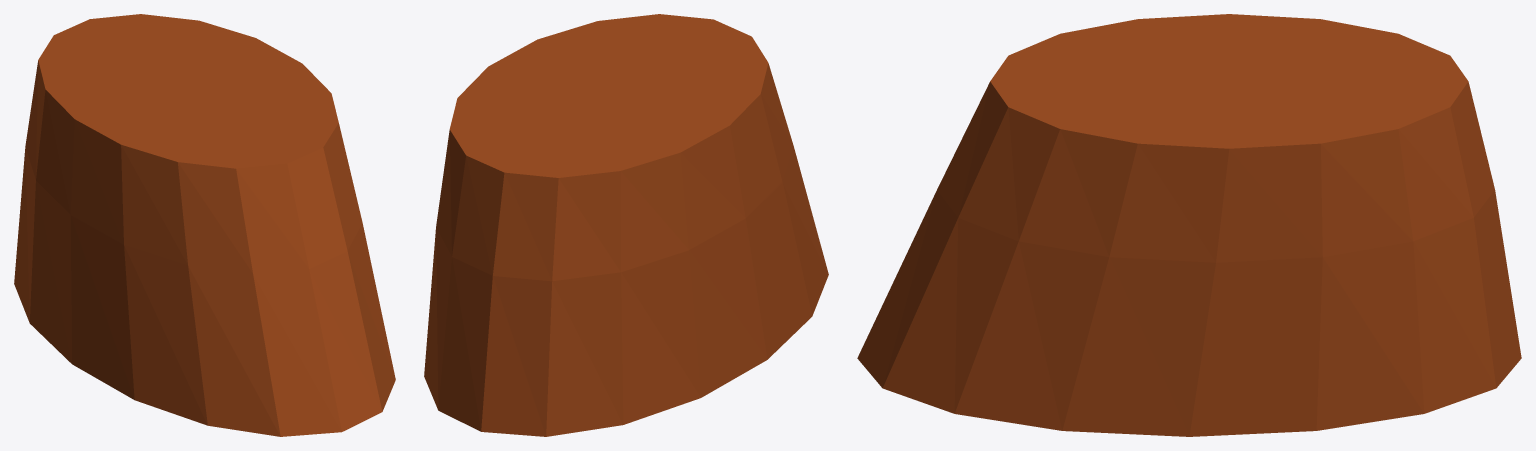
The model's file is Boot_R.obj.
3 views of the same model, side by side, from view 1: azimuth 30°, elevation 25°; view 2: azimuth 150°, elevation 25°; view 3: azimuth 270°, elevation 25° (orthographic). The views are drawn at different scales.
Parts seen in each view (by area): view 1: Boot_R; view 2: Boot_R; view 3: Boot_R.
Part boxes in pixels (bbox=[...]): Boot_R: bbox=[14, 14, 395, 436]; Boot_R: bbox=[424, 14, 828, 436]; Boot_R: bbox=[857, 14, 1521, 436].
Bounding box in the file's own units: 0.28 × 0.23 × 0.5.
